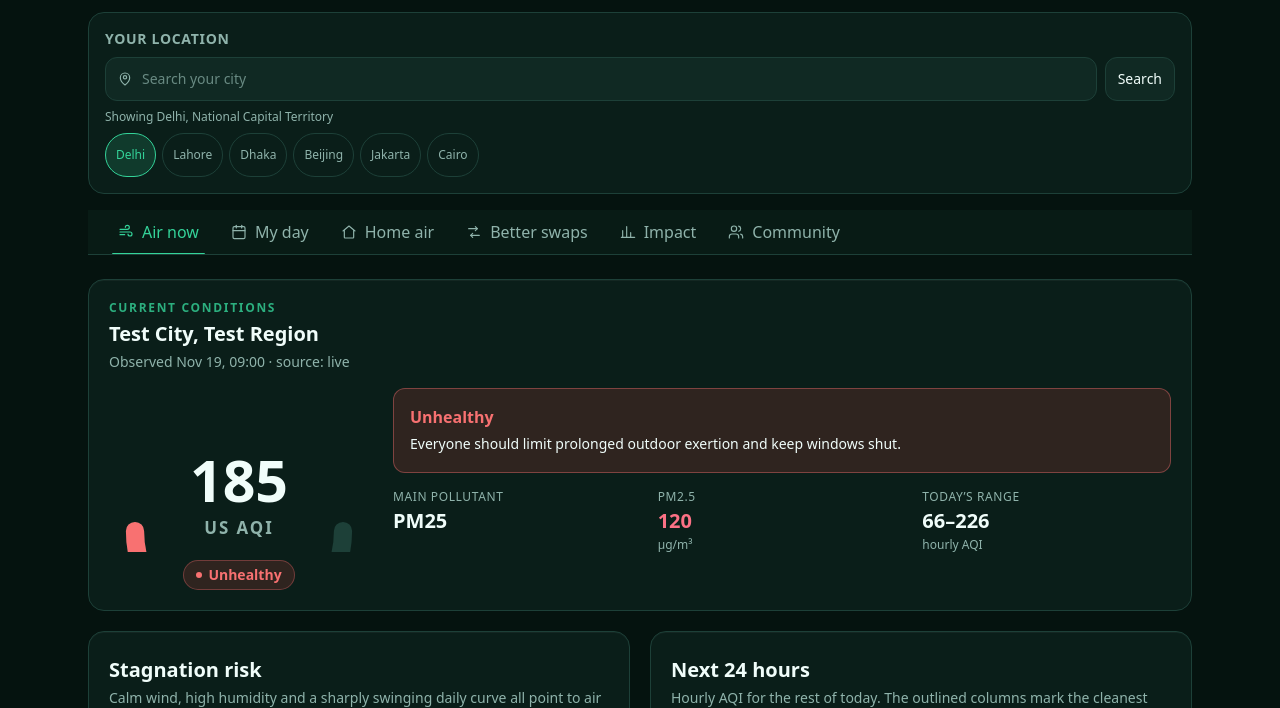
community tab › falls back to a fixed advisory when the model is unavailable
What coordinates should you click on to do the following:
click the tab "Community"
I would click on:
 (784, 232)
Its box is [714,210,854,254].
(page scrolled)
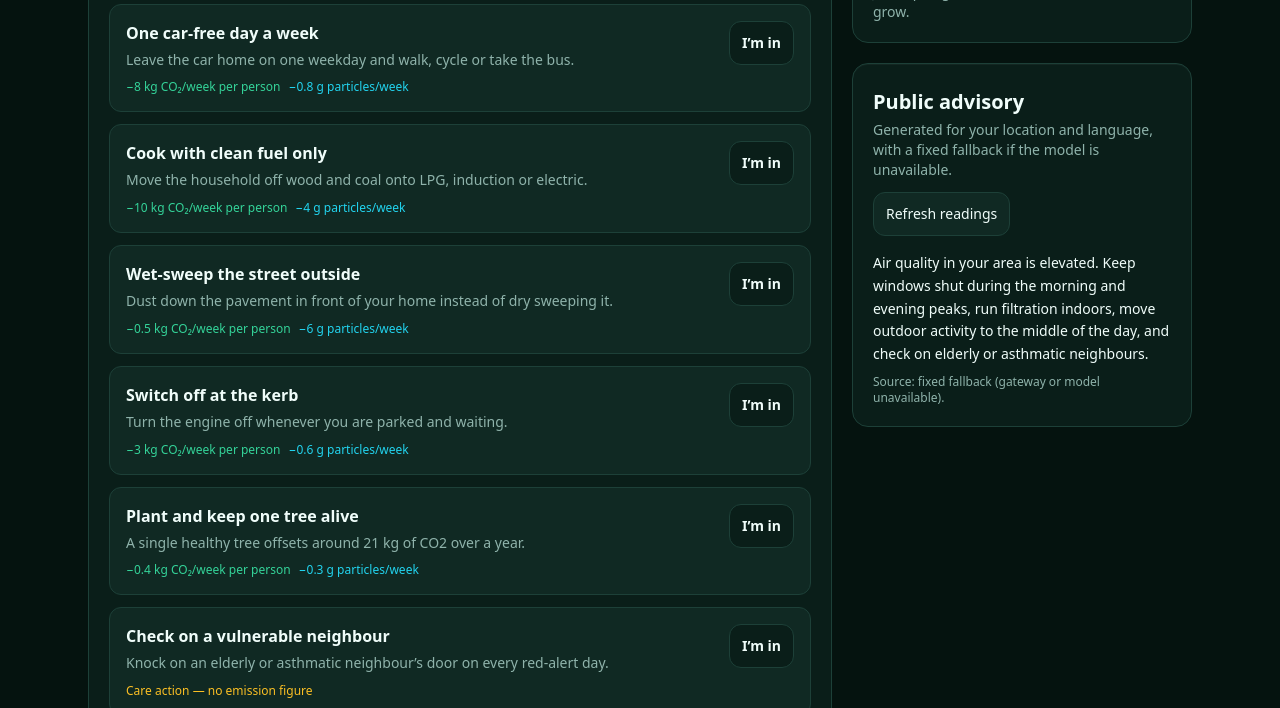
Now the text "Source: fixed fallback (gateway or model unavailable)." is shown, box [873,373,1100,406]
Now the text "Keep windows shut during the morning" is shown, box [873,253,1169,363]
